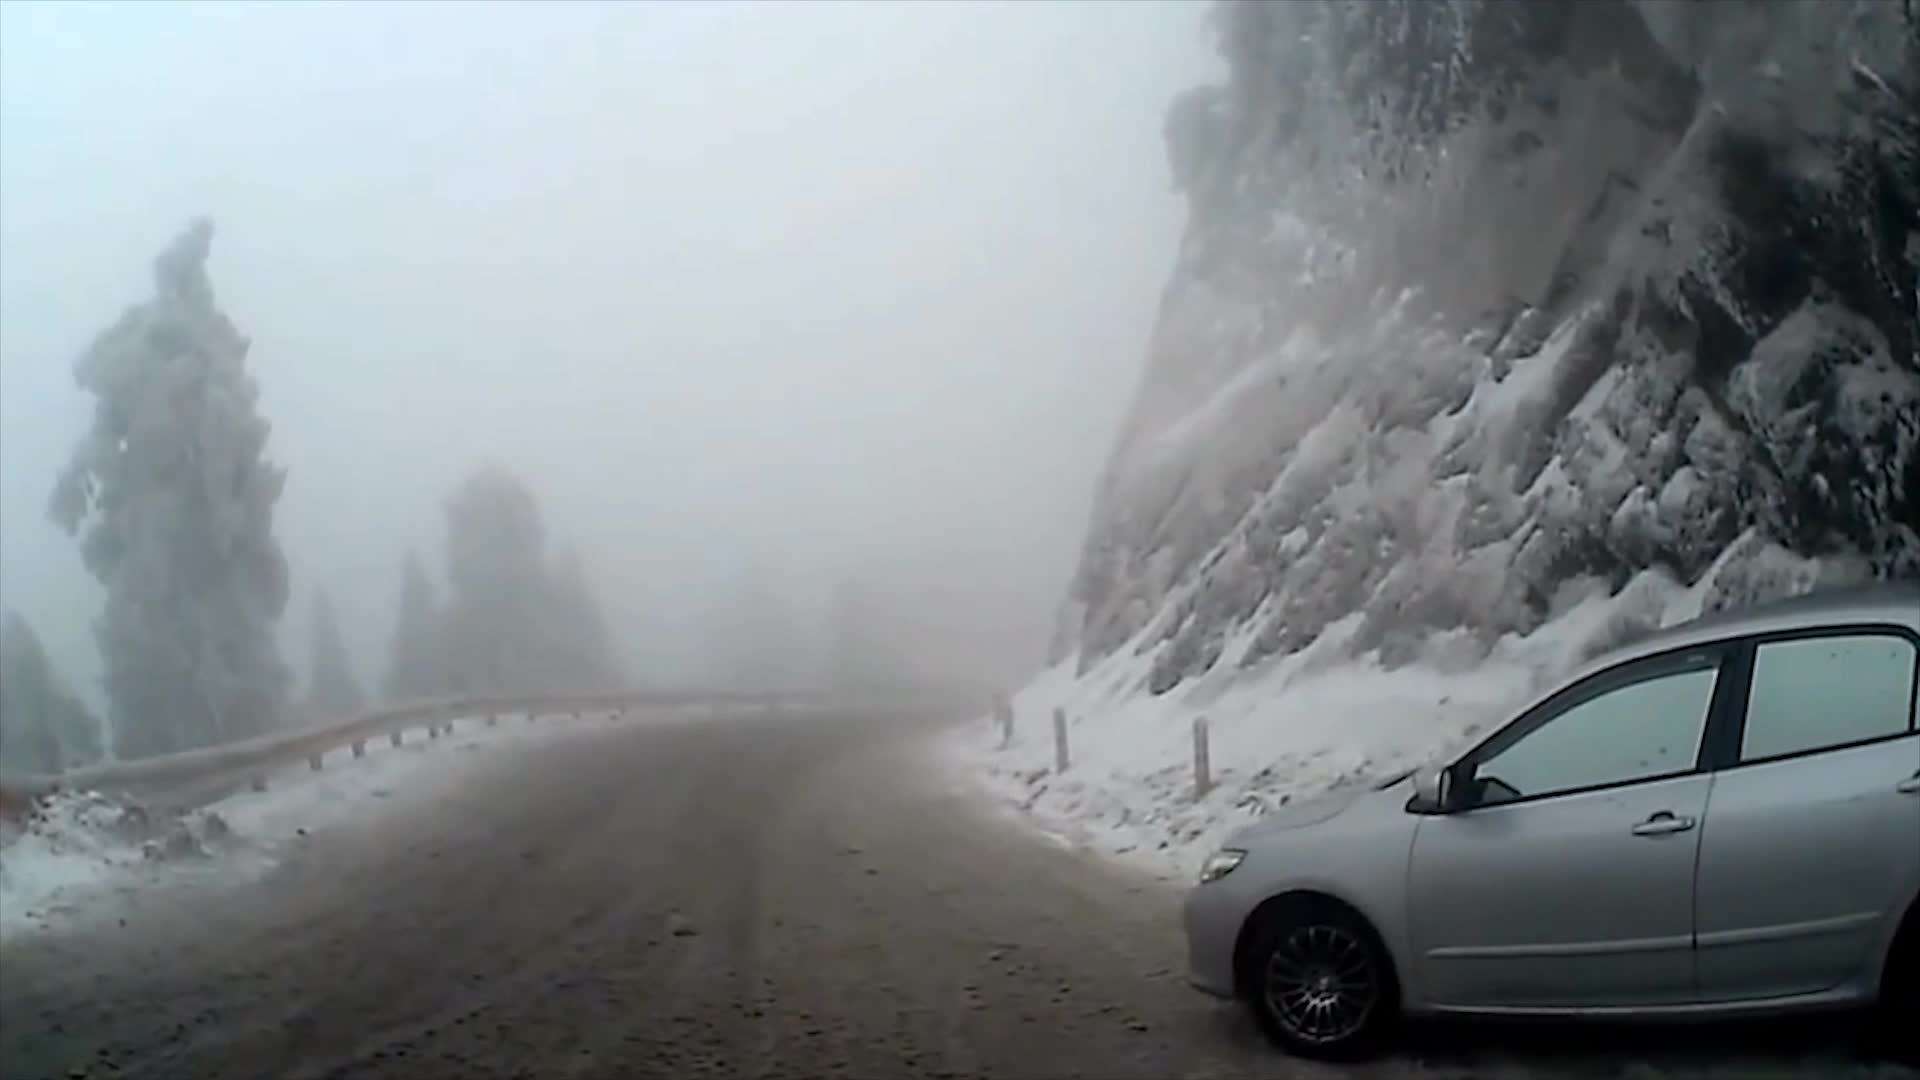vehicle: (1178, 582, 1920, 1080)
